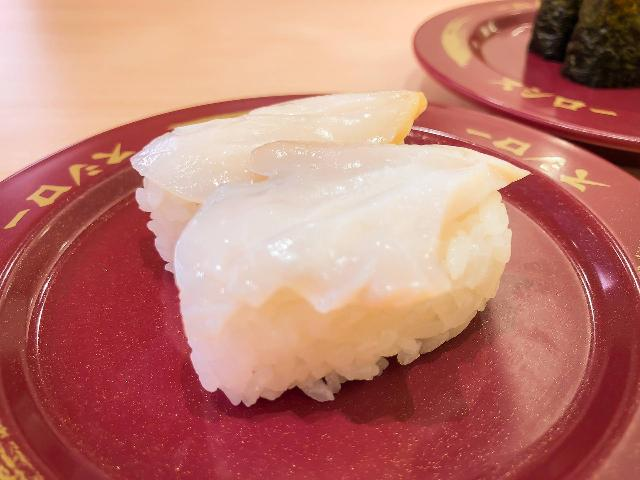janred: (0, 117, 640, 480), (383, 4, 640, 161)
